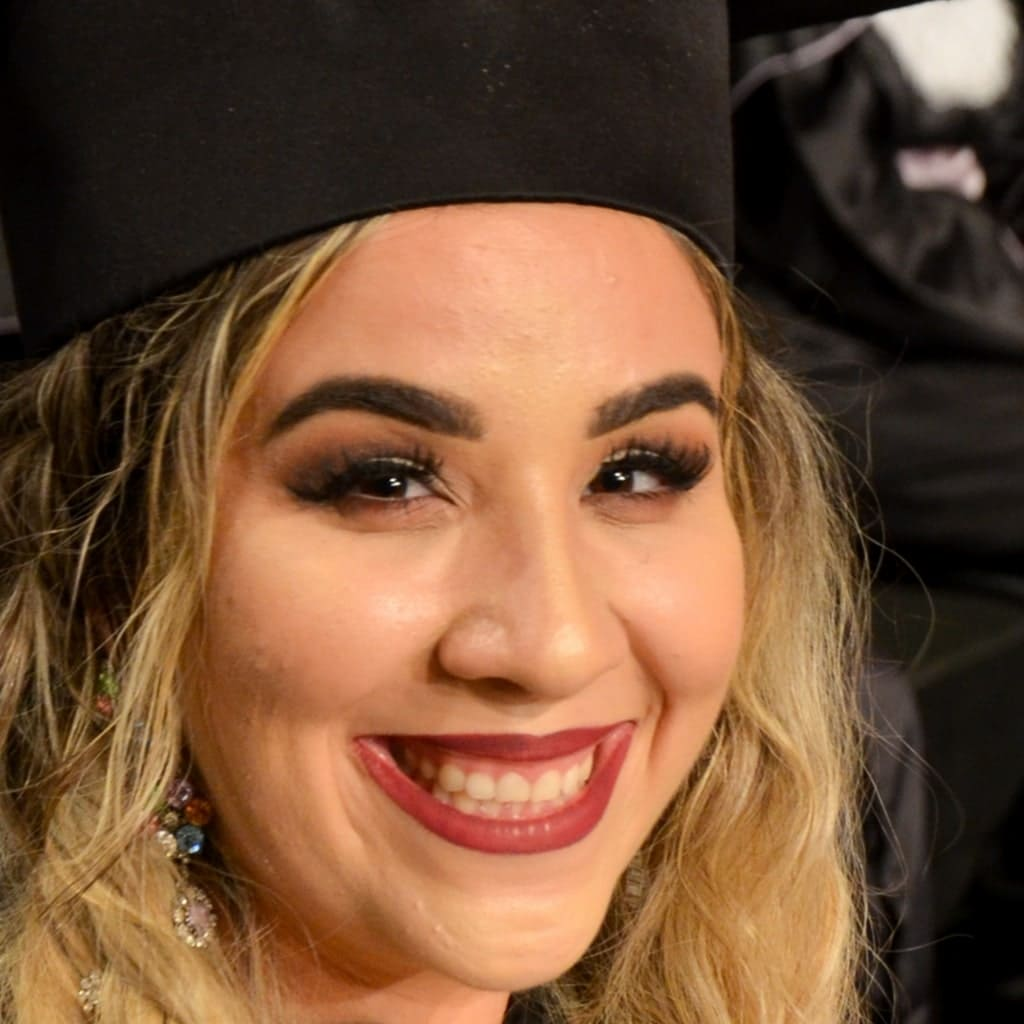without_mask: (177, 239, 773, 976)
